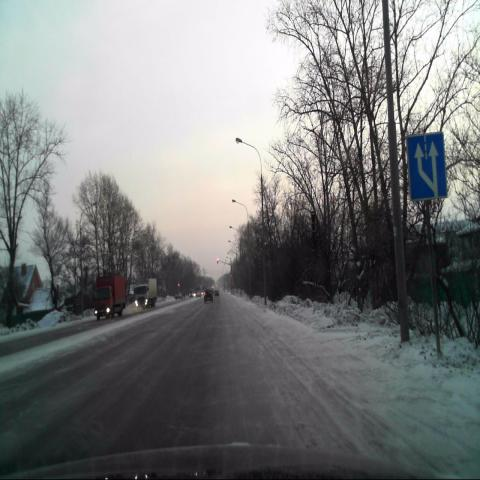5_15_3: (406, 133, 446, 199)
